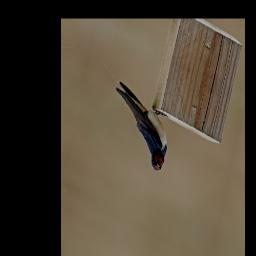Swallow: (85, 60, 178, 177)
